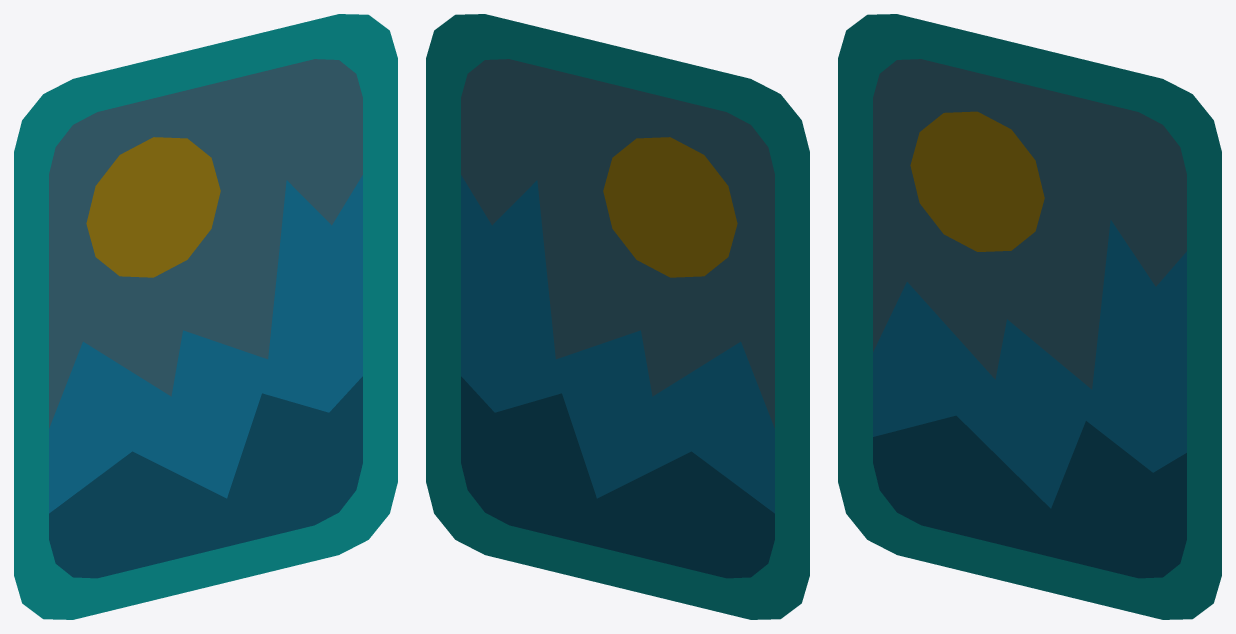
File: toy_poster_01.fbx
3 views of the same model, side by side, from view 1: azimuth 30°, elevation 25°; view 2: azimuth 150°, elevation 25°; view 3: azimuth 330°, elevation 25° (orthographic).
Parts seen in each view (by area): view 1: toy_poster_01; view 2: toy_poster_01; view 3: toy_poster_01.
Boxes of the visible parts, x1,y1,x2,y2 form: toy_poster_01: (14, 14, 397, 619); toy_poster_01: (426, 14, 809, 619); toy_poster_01: (838, 14, 1221, 619).
Size of the model in its own units: 54.45 by 73.34 by 1.52e-05.
